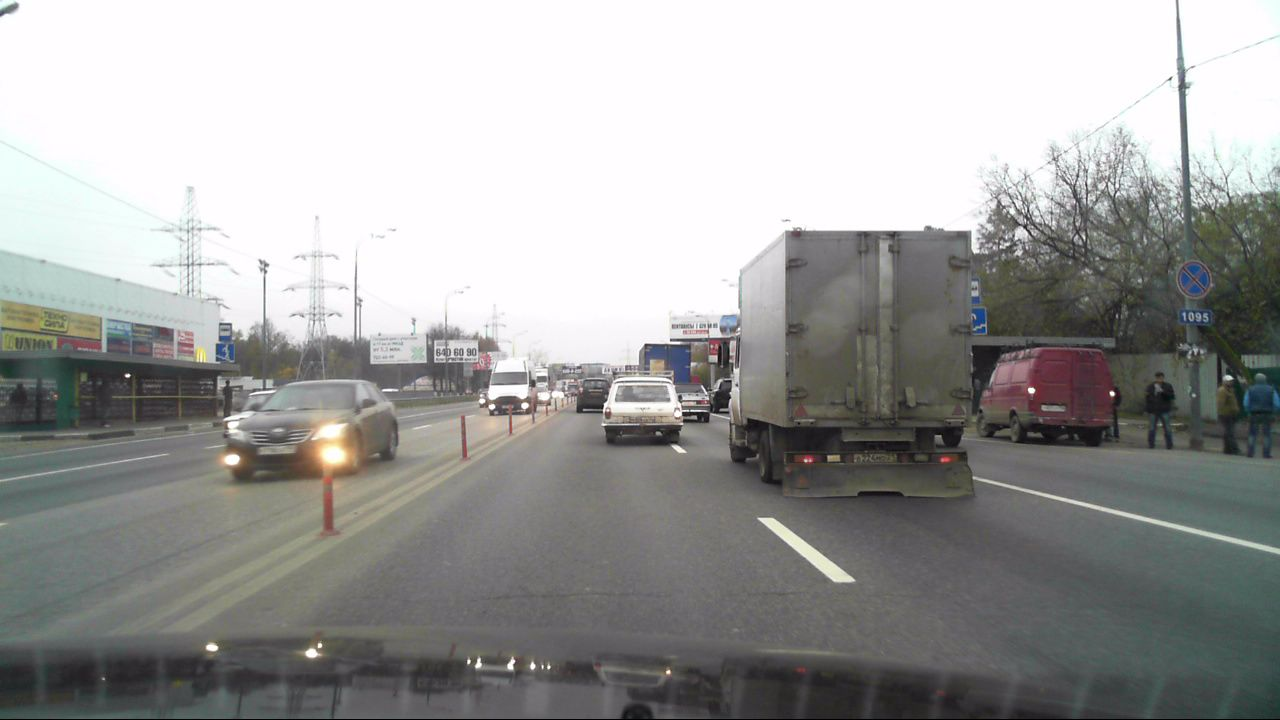No Parking: (1175, 259, 1213, 301)
